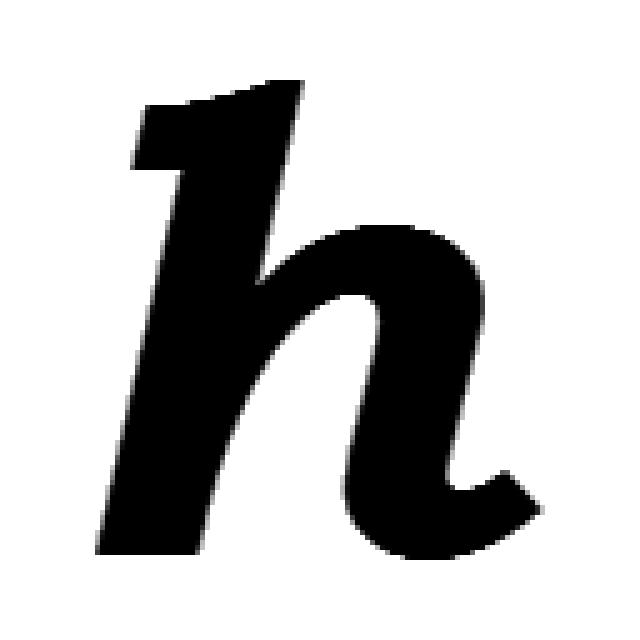H: (95, 80, 535, 560)
